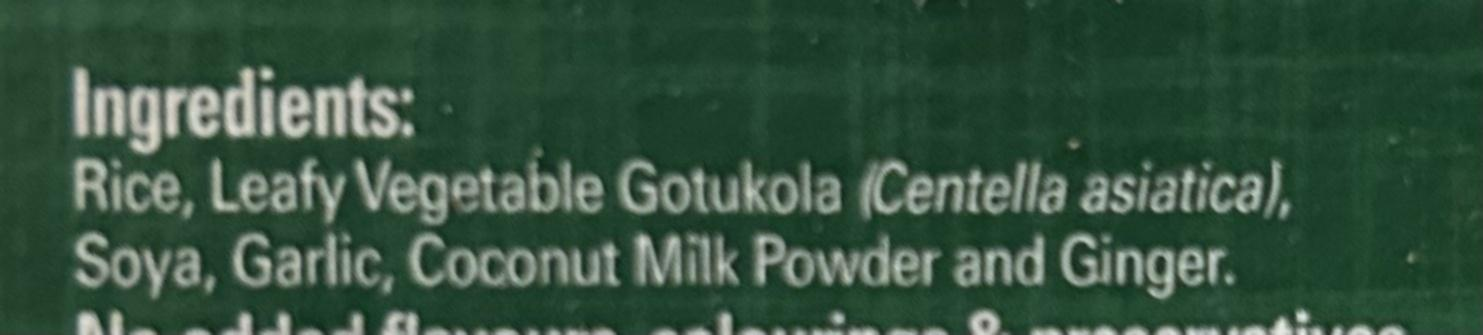ingredients: (52, 43, 1348, 308)
